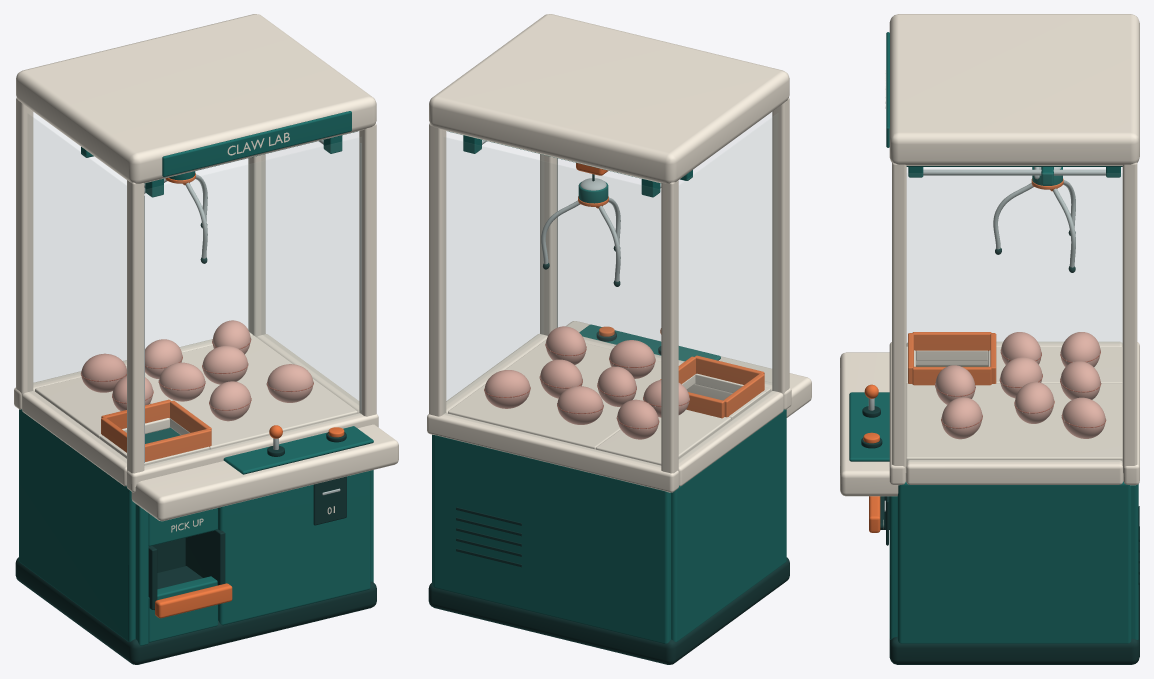
File: claw-lab-r1.glb
3 views of the same model, side by side, from view 1: azimuth 30°, elevation 25°; view 2: azimuth 150°, elevation 25°; view 3: azimuth 270°, elevation 25° (orthographic). The views are drawn at different scales.
Parts seen in each view (by area): view 1: roof_crown, base_left, front_right, console, floor_main, base_plinth, post_-0.423_-0.35, post_0.423_-0.35, post_-0.423_0.35, roof_teal_insert, bottom_frame_front, post_0.423_0.35 (+25 smaller); view 2: roof_crown, base_back, base_left, base_plinth, floor_main, bottom_frame_back, post_-0.423_0.35, post_0.423_0.35, post_-0.423_-0.35, bottom_frame_side_-0.425, post_0.423_-0.35, floor_back_left (+14 smaller); view 3: roof_crown, base_right, floor_main, base_plinth, bottom_frame_side_0.425, post_0.423_0.35, post_0.423_-0.35, console, console_teal_plate, floor_back_left, chute_left, prize_04_volume (+18 smaller).
Boxes of the visible parts, x1,y1,x2,y2 form: roof_crown: (16,14,376,183); base_left: (19,409,135,641); front_right: (218,470,370,625); console: (131,424,398,521); floor_main: (126,335,357,449); base_plinth: (15,557,376,664); post_-0.423_-0.35: (127,180,144,473); post_0.423_-0.35: (359,123,376,416); post_-0.423_0.35: (16,98,33,394); roof_teal_insert: (162,111,351,176); bottom_frame_front: (126,413,378,492); post_0.423_0.35: (248,154,265,336); roof_crown: (429,14,789,183); base_back: (433,435,670,643); base_left: (671,409,786,641); base_plinth: (428,557,789,664); floor_main: (448,339,695,449); bottom_frame_back: (427,413,678,492); post_-0.423_0.35: (661,180,678,473); post_0.423_0.35: (429,123,446,416); post_-0.423_-0.35: (772,98,789,394); bottom_frame_side_-0.425: (678,391,783,486); post_0.423_-0.35: (540,154,557,335); floor_back_left: (596,409,731,465); roof_crown: (889,14,1139,165); base_right: (897,481,1131,643); floor_main: (906,383,1122,461); base_plinth: (889,526,1139,664); bottom_frame_side_0.425: (906,460,1123,484); post_0.423_0.35: (1122,162,1137,473); post_0.423_-0.35: (892,162,906,473); console: (840,352,898,496); console_teal_plate: (849,392,889,461); floor_back_left: (988,347,1122,383); chute_left: (912,332,991,350); prize_04_volume: (1062,397,1105,438).
Size of what is drawn, in the model's own units: 0.9 by 1.8 by 0.91.
Materials: 9 (1 with a texture image).
